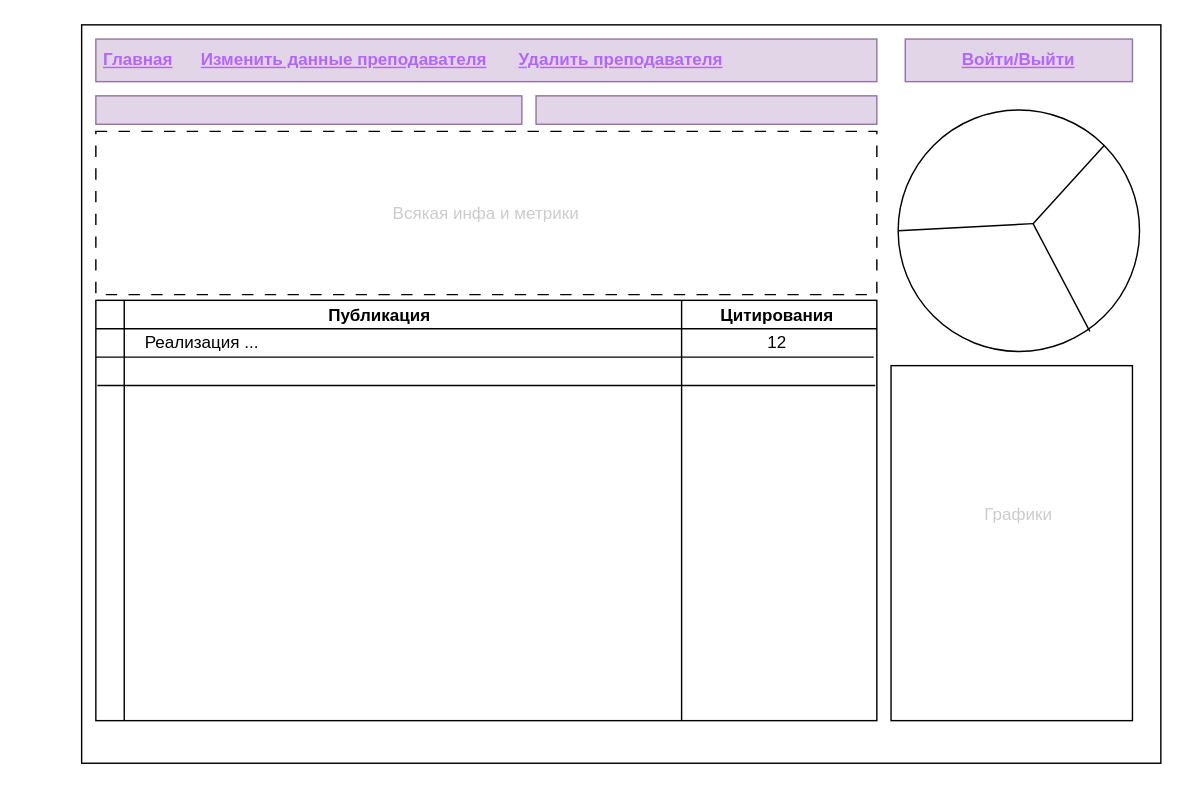
This 1186x788 diagram has some shape labels left out. The shapes that lost their labels are listed below. From the top down, each one's centre as x and y in pixels, then its label:
At [308,109]: "Плаксина Ирина Владимировна".
At [706,109]: "Выгрузить в эксель".
